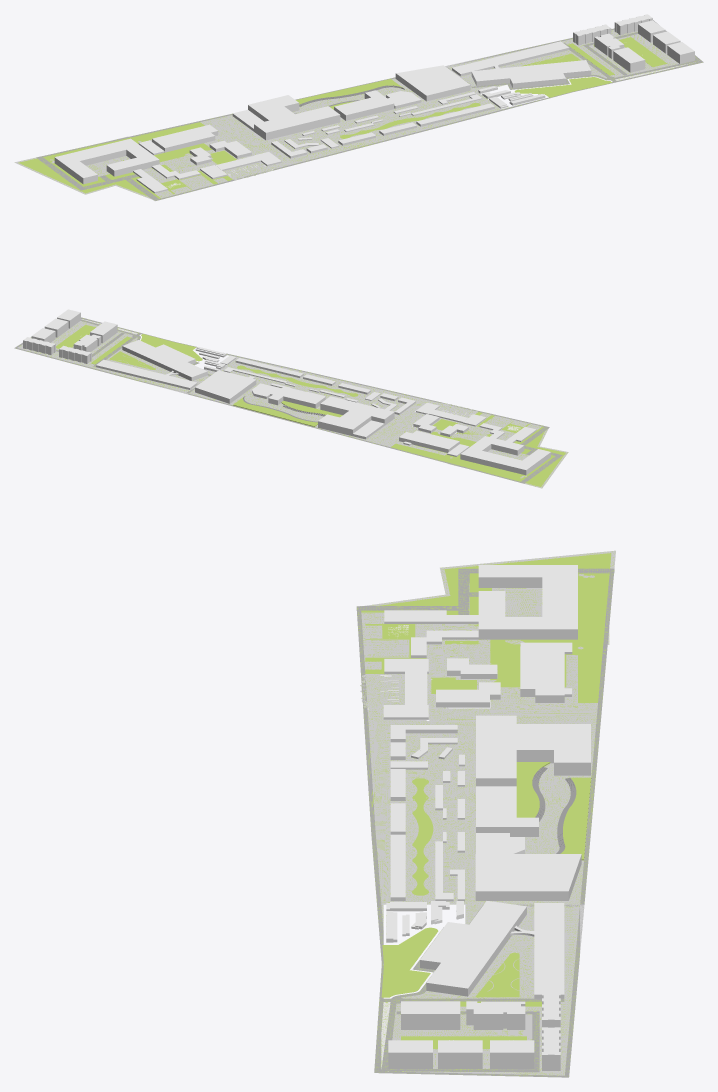
Rendered from ren1.glb.
3 views of the same model, one above another, from view 1: azimuth 30°, elevation 25°; view 2: azimuth 150°, elevation 25°; view 3: azimuth 270°, elevation 25° (orthographic). The views are drawn at different scales.
Visible parts, largest first — view 1: Big_Project01_เรน-_Copy.dwg (×2), group_0, Component_20, group_183, Component_19, group_187, Component_16 (×2), group_185, Component_25, group_218, Component_18, group_229 (+5 smaller); view 2: Big_Project01_เรน-_Copy.dwg (×2), group_0, Component_20, group_183, Component_19, Component_16 (×2), group_187, group_185, Component_25, group_218, group_229, Component_17 (+3 smaller); view 3: Big_Project01_เรน-_Copy.dwg (×2), group_0, Component_20, group_183, Component_19, group_187, Component_25, group_185, Component_18, Component_17, group_218, group_229 (+6 smaller).
Part boxes in pixels (<box>): Big_Project01_เรน-_Copy.dwg (×2): <box>14,20,703,201</box>; group_0: <box>54,91,510,193</box>; Component_20: <box>471,60,591,88</box>; group_183: <box>395,65,470,101</box>; Component_19: <box>452,41,569,76</box>; group_187: <box>254,106,340,133</box>; Component_16 (×2): <box>573,14,652,45</box>; group_185: <box>334,90,394,117</box>; Component_25: <box>514,77,611,97</box>; group_218: <box>296,79,402,104</box>; Component_18: <box>613,47,645,72</box>; group_229: <box>341,103,480,138</box>; Big_Project01_เรน-_Copy.dwg (×2): <box>14,317,568,488</box>; group_0: <box>205,361,550,475</box>; Component_20: <box>122,340,207,380</box>; group_183: <box>195,370,256,403</box>; Component_19: <box>96,359,197,389</box>; Component_16 (×2): <box>23,337,91,363</box>; group_187: <box>320,396,394,419</box>; group_185: <box>268,386,325,406</box>; Component_25: <box>140,334,202,361</box>; group_218: <box>233,397,317,426</box>; group_229: <box>237,365,357,396</box>; Component_17: <box>73,334,101,352</box>; Big_Project01_เรน-_Copy.dwg (×2): <box>356,550,615,1077</box>; group_0: <box>380,565,577,924</box>; Component_20: <box>420,901,526,996</box>; group_183: <box>475,854,581,900</box>; Component_19: <box>534,903,564,998</box>; group_187: <box>476,715,516,779</box>; Component_25: <box>381,927,438,997</box>; group_185: <box>476,786,538,831</box>; Component_18: <box>401,1001,460,1029</box>; Component_17: <box>466,1001,525,1029</box>; group_218: <box>560,777,591,860</box>; group_229: <box>412,779,433,895</box>.
Size of the model in its own units: 1785 by 24.33 by 694.
